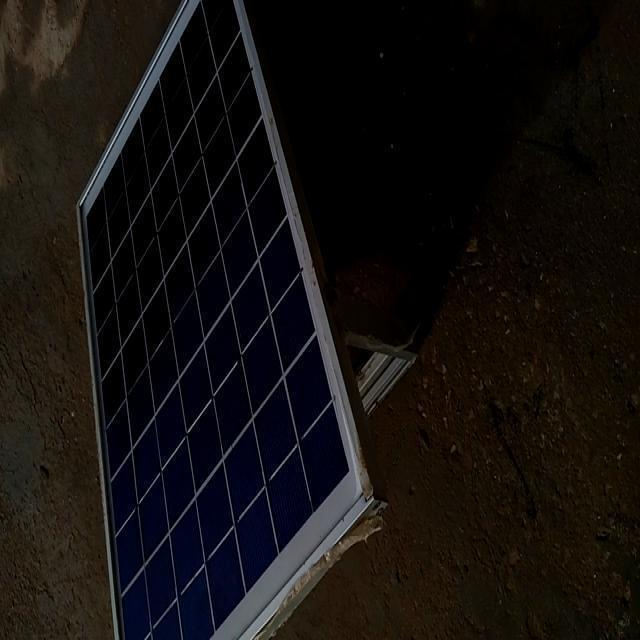Normal Solar Panel: (79, 1, 380, 640)
